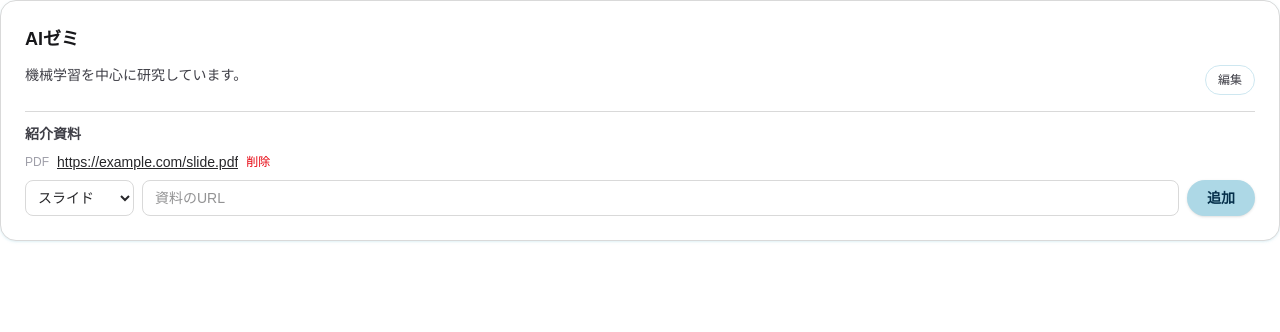
Test case: TeacherSeminarView › shows an error when adding a material without a URL
The width and height of the screenshot is (1280, 332).
What coordinates should you click on to do the following:
click the button "追加"
I would click on:
 (1221, 198)
Its box is [1187,180,1255,216].
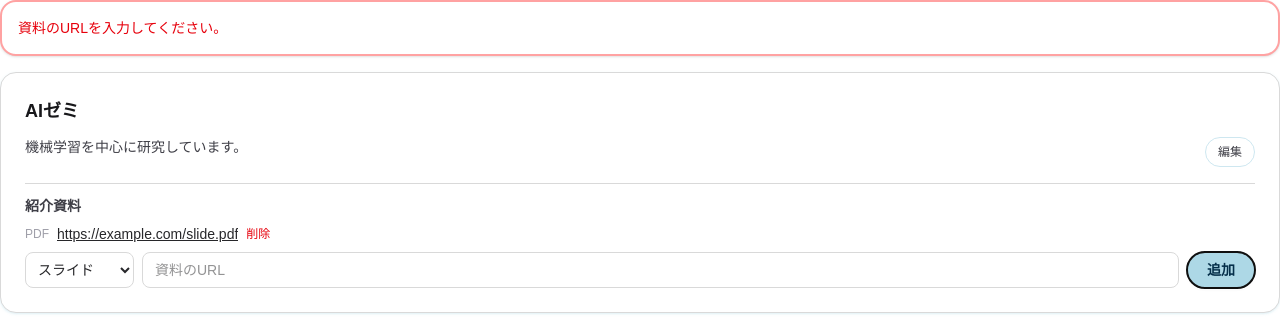
Check: the text "資料のURLを入力してください。" is shown, box [0,0,1279,56]
